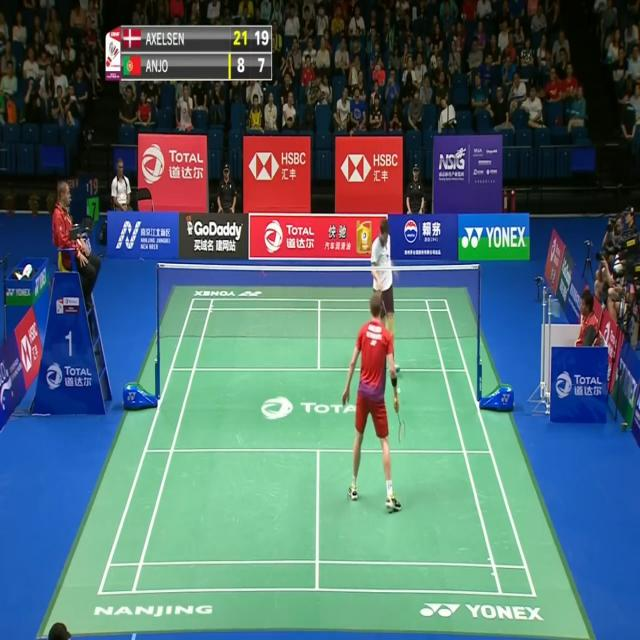Player1: (338, 291, 408, 517)
Player2: (369, 217, 403, 381)
